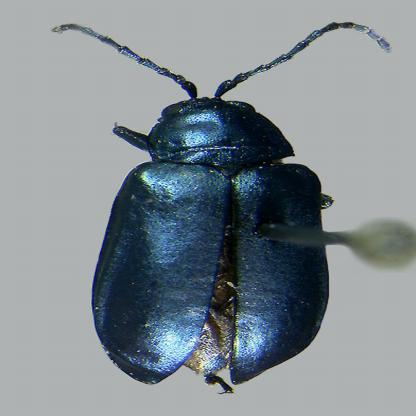beetle: (47, 14, 393, 403)
